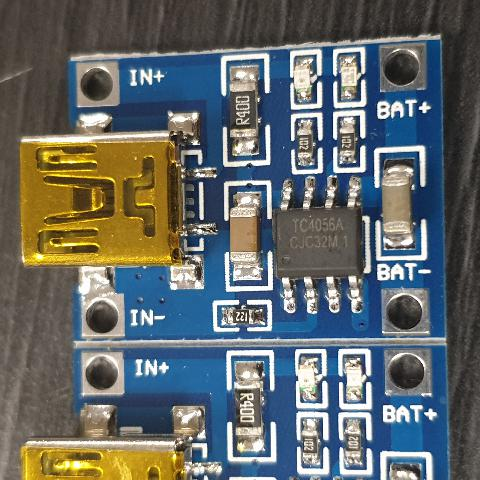batt+: (380, 48, 425, 86), (388, 351, 428, 392)
batt-: (388, 291, 434, 330)
charge: (300, 350, 336, 406), (296, 54, 324, 107)
done: (338, 43, 368, 104), (328, 354, 360, 406)
rprog: (213, 306, 269, 326)
usb: (16, 134, 168, 262)
